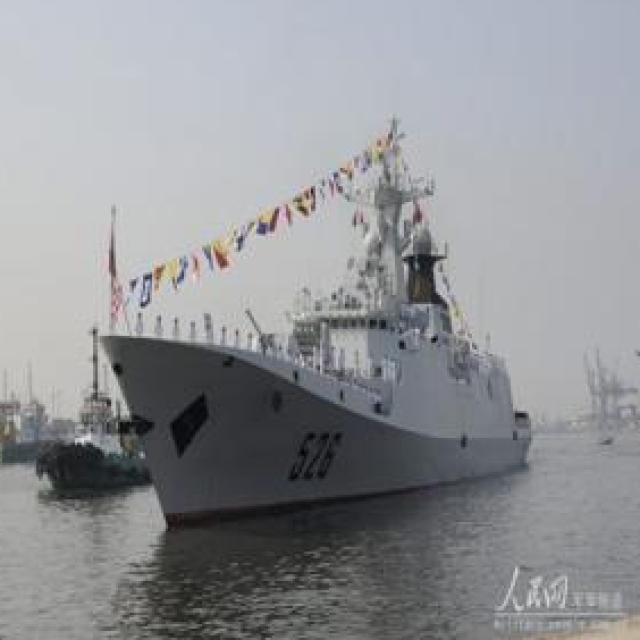fishing boat: (36, 319, 159, 488)
navalvessels: (113, 154, 527, 508)
